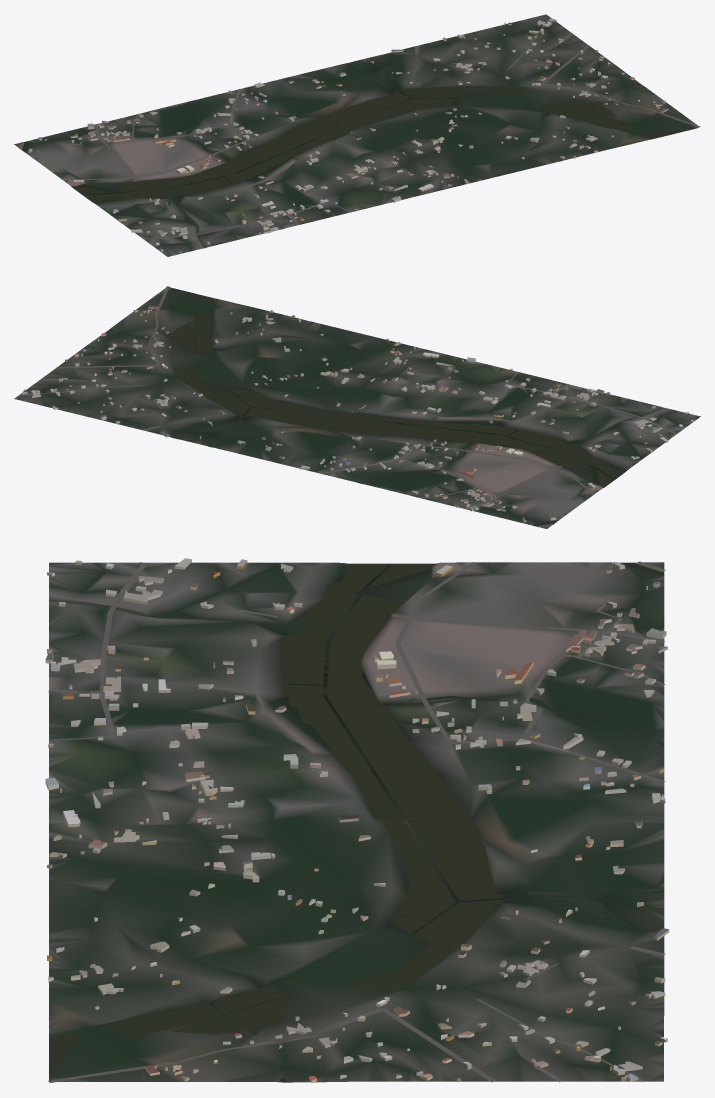
The picture shows the model from 3 angles, top to bottom: view 1: azimuth 30°, elevation 25°; view 2: azimuth 150°, elevation 25°; view 3: azimuth 270°, elevation 25°; orthographic projection. The views are drawn at different scales.
Parts seen in each view (by area): view 1: ground, water, buildings, roads; view 2: ground, water, buildings, roads; view 3: ground, water, buildings, roads.
Boxes of the visible parts, x1,y1,x2,y2 form: ground: (14, 14, 698, 256); water: (21, 53, 694, 202); buildings: (28, 18, 668, 253); roads: (19, 18, 700, 240); ground: (14, 287, 700, 528); water: (109, 288, 625, 526); buildings: (22, 305, 693, 522); roads: (19, 286, 678, 527); ground: (49, 562, 664, 1082); water: (49, 562, 663, 1081); buildings: (45, 558, 669, 1082); roads: (48, 561, 665, 1082).
Size of the model in its own units: 2815 by 24.74 by 1420.
